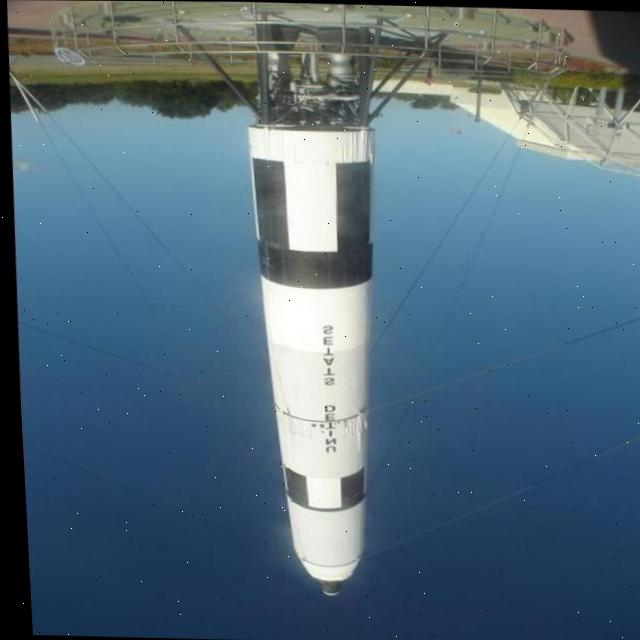missile: (223, 11, 394, 605)
